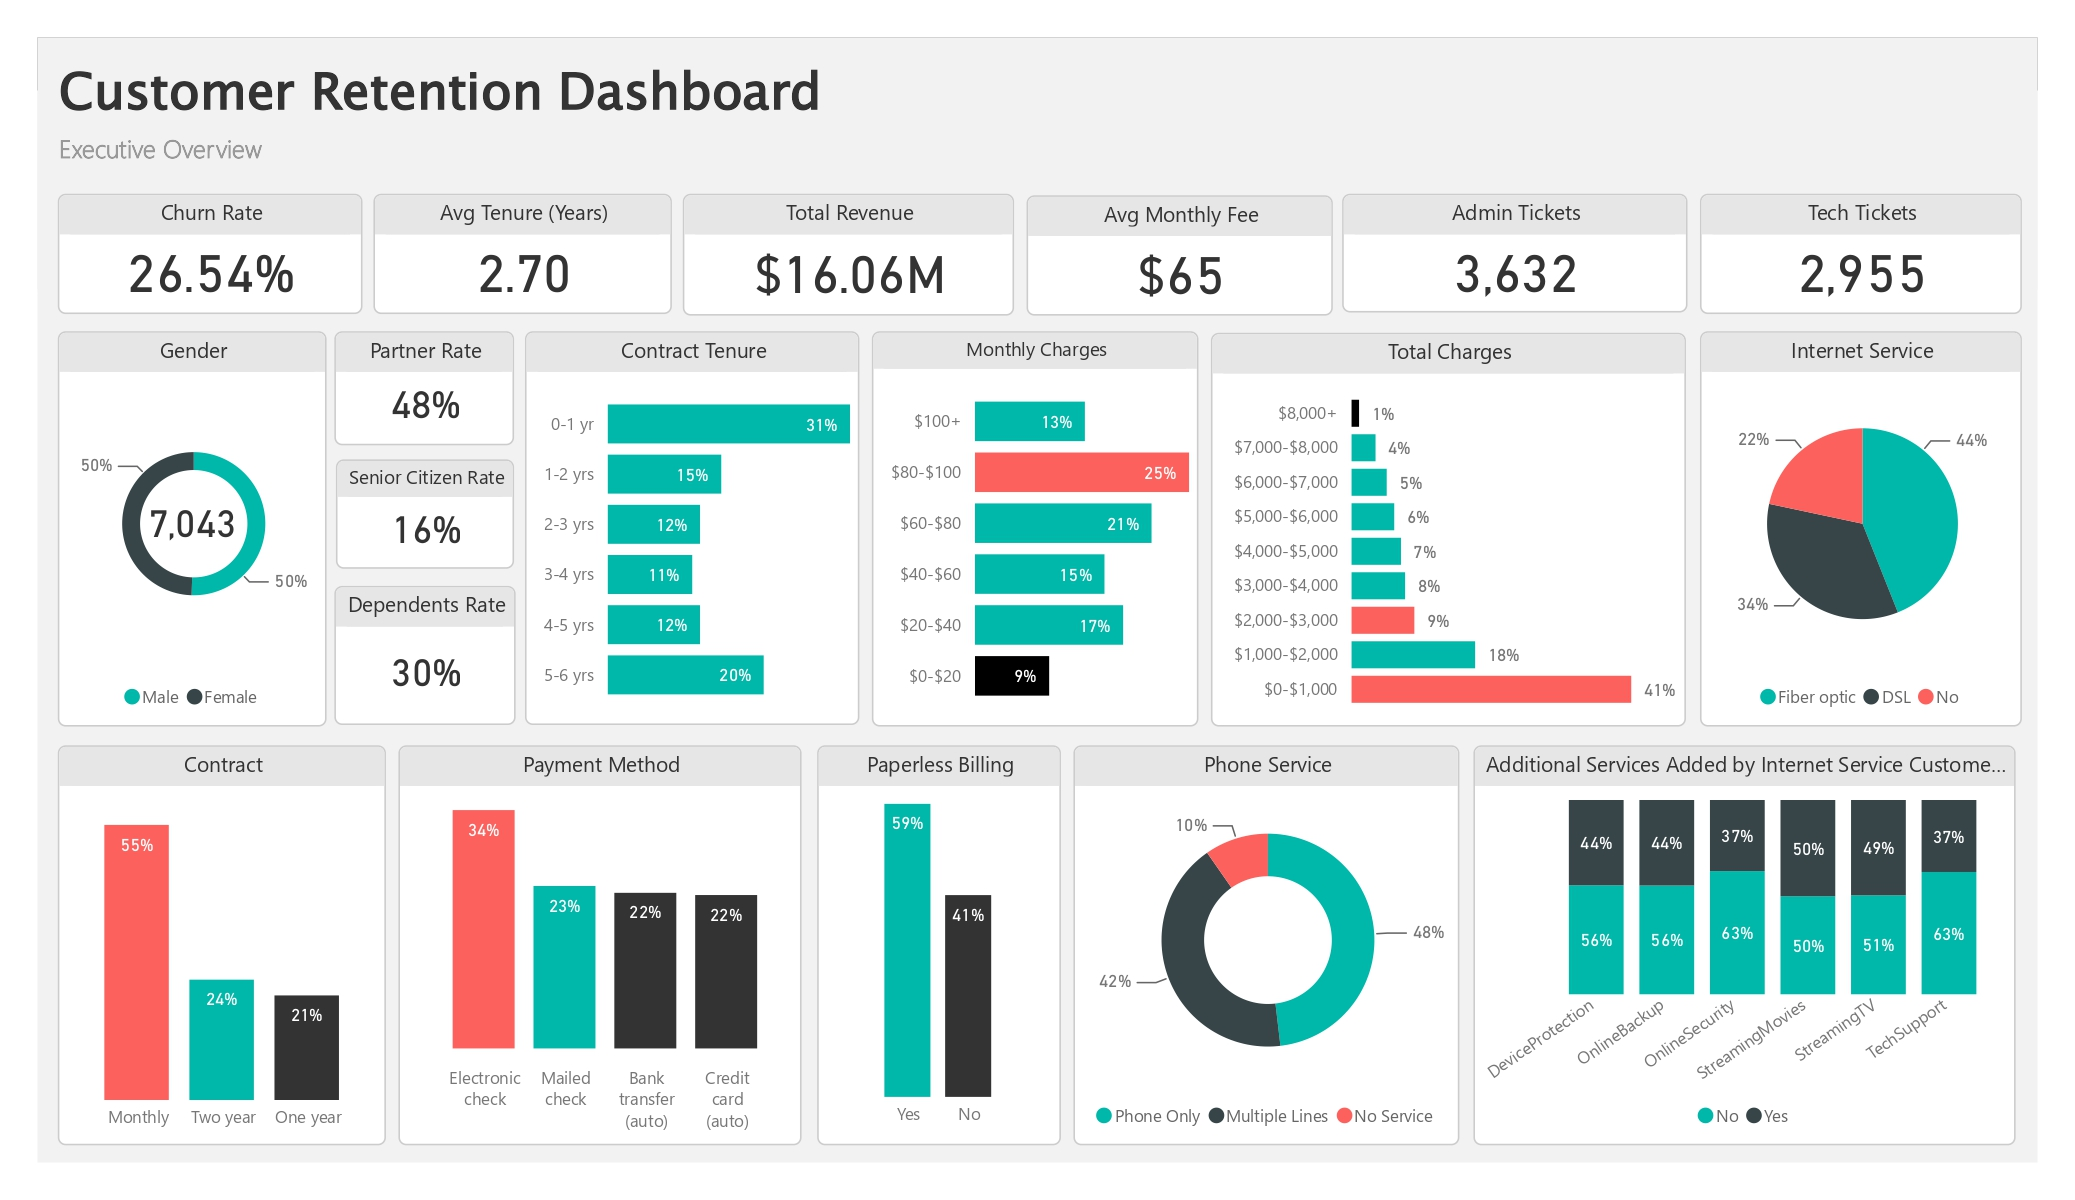

What the dashboard file says about the page in this screenshot:
{"tool":"powerbi","page":{"name":"Executive Overview","canvas":[1280,720],"ordinal":0},"visuals":[{"type":"donutChart","title":"Gender","fields":{"Category":["01 Churn-Dataset.gender"],"Y":["CountNonNull(01 Churn-Dataset.gender)"]},"box":[12.9,188.2,171.8,252.9],"z":8000},{"type":"textbox","title":"Customer Retention Analysis","box":[8.9,5.6,512.2,84.4],"z":16000},{"type":"card","fields":{"Values":["01 Churn-Dataset.Customers"]},"box":[40.6,265.9,116.5,89.4],"z":17000},{"type":"card","title":"Total Revenue","fields":{"Values":["01 Churn-Dataset.Total Revenue"]},"box":[412.5,100,212.5,77.5],"z":18000},{"type":"card","title":"Churn Rate","fields":{"Values":["01 Churn-Dataset.Churn Rate"]},"box":[13.3,100,194.7,76.7],"z":19000},{"type":"pieChart","title":"Internet Service","fields":{"Category":["01 Churn-Dataset.InternetService"],"Y":["CountNonNull(01 Churn-Dataset.InternetService)"]},"box":[1064.3,187.9,205.7,253.6],"z":20000},{"type":"card","title":"Avg Monthly Fee","fields":{"Values":["01 Churn-Dataset.Average Monthly Charges"]},"box":[632.5,101.2,196.2,76.2],"z":21000},{"type":"card","title":"Avg Tenure (Years)","fields":{"Values":["01 Churn-Dataset.Avg Tenure (Years)"]},"box":[214.7,100,191.3,77.3],"z":22000},{"type":"clusteredColumnChart","title":"Payment Method","fields":{"Category":["01 Churn-Dataset.PaymentMethod"],"Y":["Divide(CountNonNull(01 Churn-Dataset.PaymentMethod), ScopedEval(CountNonNull(01 Churn-Dataset.PaymentMethod), []))"]},"box":[230.7,452.9,258.6,255.7],"z":23000},{"type":"columnChart","title":"Contract","fields":{"Category":["01 Churn-Dataset.Contract"],"Y":["Divide(CountNonNull(01 Churn-Dataset.Contract), ScopedEval(CountNonNull(01 Churn-Dataset.Contract), []))"]},"box":[12.9,452.9,210,255.7],"z":24000},{"type":"card","title":"Partner Rate","fields":{"Values":["01 Churn-Dataset.Partner Rate"]},"box":[190.3,187.6,115,73.6],"z":25000},{"type":"card","title":"Senior Citizen Rate","fields":{"Values":["01 Churn-Dataset.Senior Citizen Rate"]},"box":[190.9,270,114.5,70],"z":26000},{"type":"card","title":"Dependents Rate","fields":{"Values":["01 Churn-Dataset.Dependents Rate"]},"box":[190,350.9,116.4,89.1],"z":27000},{"type":"donutChart","title":"Phone Service","fields":{"Category":["01 Churn-Dataset.Phone Category"],"Y":["CountNonNull(01 Churn-Dataset.Phone Category)"]},"box":[662.9,452.9,247.1,255.7],"z":28000},{"type":"hundredPercentStackedColumnChart","title":"Additional Services Added by Internet Service Customers","fields":{"Category":["Additional Services.Service"],"Y":["CountNonNull(Additional Services.customerID)"],"Series":["Additional Services.Status"]},"box":[918.6,452.9,347.9,255.7],"z":29000},{"type":"clusteredColumnChart","title":"Paperless Billing","fields":{"Category":["01 Churn-Dataset.PaperlessBilling"],"Y":["CountNonNull(01 Churn-Dataset.PaperlessBilling)"]},"box":[499.2,453.1,156.2,256.2],"z":31000},{"type":"card","title":"Tech Tickets","fields":{"Values":["Sum(01 Churn-Dataset.numTechTickets)"]},"box":[1064.2,100,205.8,76.7],"z":32000},{"type":"card","title":"Admin Tickets","fields":{"Values":["Sum(01 Churn-Dataset.numAdminTickets)"]},"box":[835,100,221.2,76.2],"z":33000},{"type":"clusteredBarChart","title":"Contract Tenure","fields":{"Category":["01 Churn-Dataset.tenure (groups)"],"Y":["CountNonNull(01 Churn-Dataset.tenure (groups))"]},"box":[312,188,214,252],"z":35000},{"type":"clusteredBarChart","title":"Monthly Charges","fields":{"Category":["01 Churn-Dataset.Monthly Charge Group"],"Y":["CountNonNull(01 Churn-Dataset.Monthly Charge Group)"]},"box":[534,188,209,253],"z":36000},{"type":"clusteredBarChart","title":"Total Charges","fields":{"Category":["01 Churn-Dataset.Total Charges Group"],"Y":["CountNonNull(01 Churn-Dataset.Total Charges Group)"]},"box":[751,189,304,252],"z":37000}]}

Visuals, with their boxes on the page's 1280x720 design canvas (x1, y1, x2, y2). These are canvas units, not pixel positions in the 2075x1200 screenshot, which may show the page scaled, cropped or inside an application window:
"Gender" donutChart: locate(13, 188, 185, 441)
"Customer Retention Analysis" textbox: locate(9, 6, 521, 90)
card - 01 Churn-Dataset.Customers: locate(41, 266, 157, 355)
"Total Revenue" card: locate(412, 100, 625, 178)
"Churn Rate" card: locate(13, 100, 208, 177)
"Internet Service" pieChart: locate(1064, 188, 1270, 442)
"Avg Monthly Fee" card: locate(632, 101, 829, 177)
"Avg Tenure (Years)" card: locate(215, 100, 406, 177)
"Payment Method" clusteredColumnChart: locate(231, 453, 489, 709)
"Contract" columnChart: locate(13, 453, 223, 709)
"Partner Rate" card: locate(190, 188, 305, 261)
"Senior Citizen Rate" card: locate(191, 270, 305, 340)
"Dependents Rate" card: locate(190, 351, 306, 440)
"Phone Service" donutChart: locate(663, 453, 910, 709)
"Additional Services Added by Internet Service Customers" hundredPercentStackedColumnChart: locate(919, 453, 1266, 709)
"Paperless Billing" clusteredColumnChart: locate(499, 453, 655, 709)
"Tech Tickets" card: locate(1064, 100, 1270, 177)
"Admin Tickets" card: locate(835, 100, 1056, 176)
"Contract Tenure" clusteredBarChart: locate(312, 188, 526, 440)
"Monthly Charges" clusteredBarChart: locate(534, 188, 743, 441)
"Total Charges" clusteredBarChart: locate(751, 189, 1055, 441)
